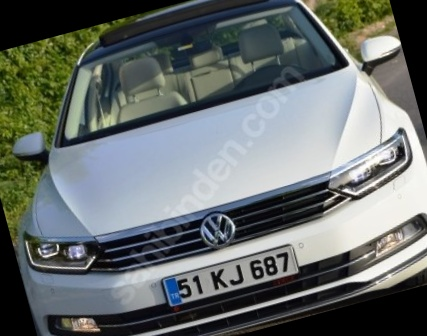plaka: (174, 249, 296, 301)
